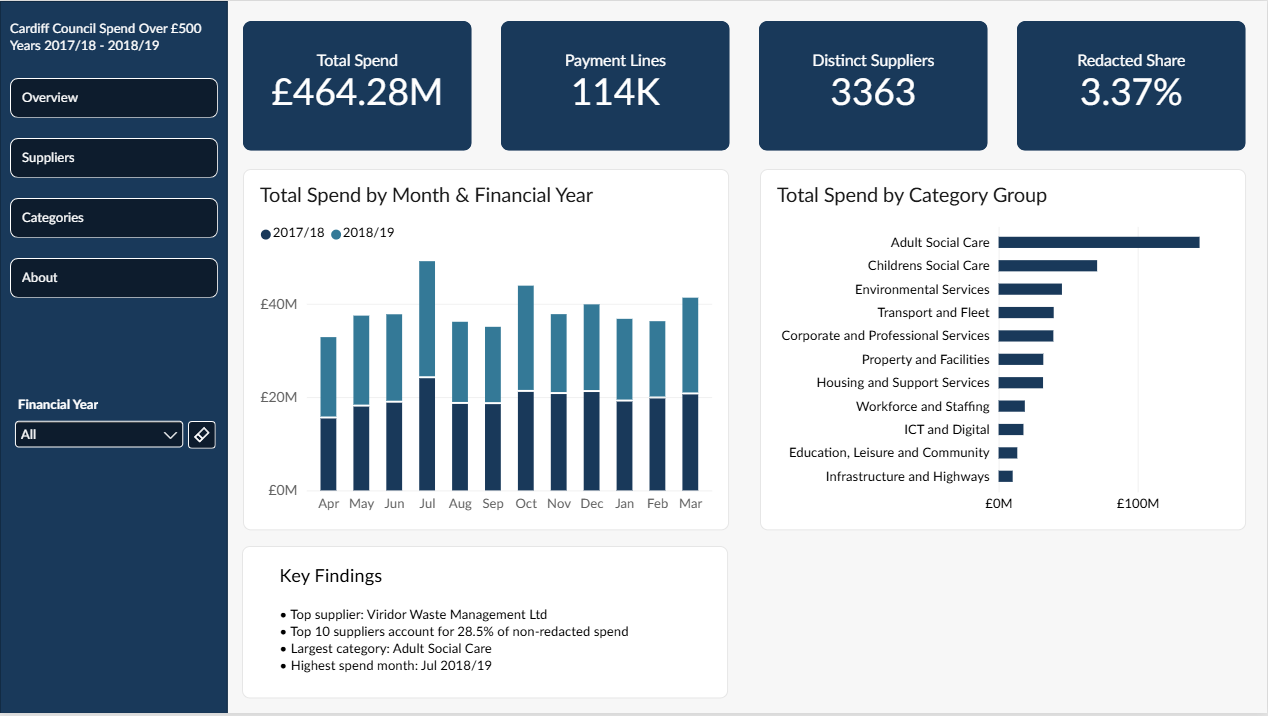

Layout of this report page (visuals, bound fields, positions):
{"tool":"powerbi","page":{"name":"Overview","canvas":[1280,720],"ordinal":0},"visuals":[{"type":"shape","title":"Shape_Menu background","box":[0,0,230,720],"z":0,"group":"g1"},{"type":"cardVisual","fields":{"Data":["_Measures.Total Spend"]},"box":[245,20,231.4,131.9],"z":0},{"type":"cardVisual","fields":{"Data":["_Measures.Redacted Share"]},"box":[1026.8,20,231.4,131.9],"z":1000},{"type":"actionButton","title":"Btn_Overview","box":[10.6,77.9,210,40.4],"z":1000,"group":"g1"},{"type":"cardVisual","fields":{"Data":["_Measures.Distinct Suppliers"]},"box":[766.2,20,231.4,131.9],"z":2000},{"type":"actionButton","title":"Btn_Suppliers","box":[10.6,138.6,210,40.4],"z":2000,"group":"g1"},{"type":"cardVisual","fields":{"Data":["_Measures.Payment Lines"]},"box":[505.6,20,231.4,131.9],"z":3000},{"type":"actionButton","title":"Btn_Categories","box":[10.6,199.3,210,40.4],"z":3000,"group":"g1"},{"type":"lineStackedColumnComboChart","title":"Total Spend by Month & Financial Year","fields":{"Category":["DimDate.Month Name"],"Series":["DimDate.Financial Year"],"Y":["_Measures.Total Spend"]},"box":[245,170,490.8,365],"z":4000},{"type":"actionButton","title":"Btn_About","box":[10.6,260,210,40.4],"z":4000,"group":"g1"},{"type":"textbox","title":"Report_Title","box":[10.1,20.2,210.1,42.4],"z":5000,"group":"g1"},{"type":"clusteredBarChart","title":"Total Spend by Category Group","fields":{"Category":["DimCategoryGroup.CategoryGroup"],"Y":["_Measures.Total Spend"]},"box":[767.4,170,490.8,365],"z":5000},{"type":"actionButton","title":"Btn_Reset Slicer","box":[190.1,424.1,28,28],"z":5500,"group":"g1"},{"type":"slicer","fields":{"Values":["DimDate.Financial Year"]},"box":[10,400,180,62.6],"z":6000,"group":"g1"},{"type":"pivotTable","fields":{"Values":["_Measures.Key Findings"]},"box":[244.8,550,490.6,154.2],"z":6000},{"type":"group","id":"g1","title":"Navigation","box":[0,0,230,720],"z":7000}]}

Visuals, with their boxes in screenshot pixels (x1, y1, x2, y2), scaled from the page's 1280x720 canvas onto the 1268x716 screenshot:
"Shape_Menu background" shape: select_region(0, 0, 228, 715)
cardVisual - _Measures.Total Spend: select_region(243, 20, 472, 151)
cardVisual - _Measures.Redacted Share: select_region(1017, 20, 1246, 151)
"Btn_Overview" actionButton: select_region(11, 77, 219, 118)
cardVisual - _Measures.Distinct Suppliers: select_region(759, 20, 988, 151)
"Btn_Suppliers" actionButton: select_region(11, 138, 219, 178)
cardVisual - _Measures.Payment Lines: select_region(501, 20, 730, 151)
"Btn_Categories" actionButton: select_region(11, 198, 219, 238)
"Total Spend by Month & Financial Year" lineStackedColumnComboChart: select_region(243, 169, 729, 532)
"Btn_About" actionButton: select_region(11, 259, 219, 299)
"Report_Title" textbox: select_region(10, 20, 218, 62)
"Total Spend by Category Group" clusteredBarChart: select_region(760, 169, 1246, 532)
"Btn_Reset Slicer" actionButton: select_region(188, 422, 216, 450)
slicer - DimDate.Financial Year: select_region(10, 398, 188, 460)
pivotTable - _Measures.Key Findings: select_region(243, 547, 729, 700)
"Navigation" group: select_region(0, 0, 228, 715)
